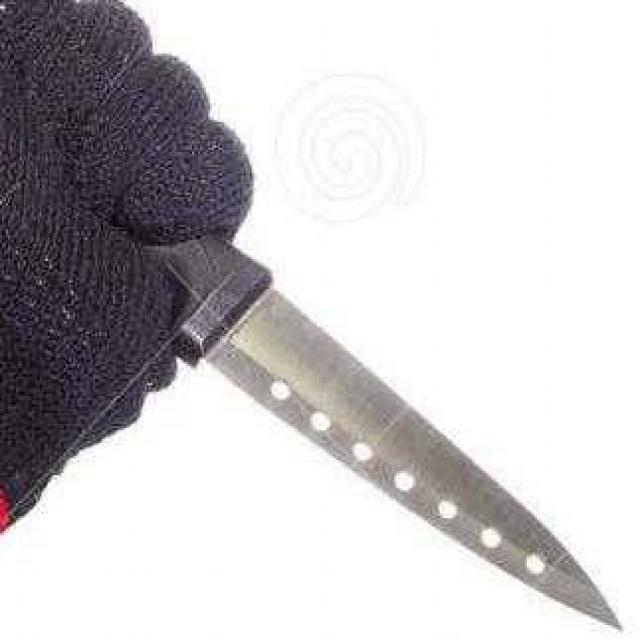knife: (71, 132, 639, 640)
